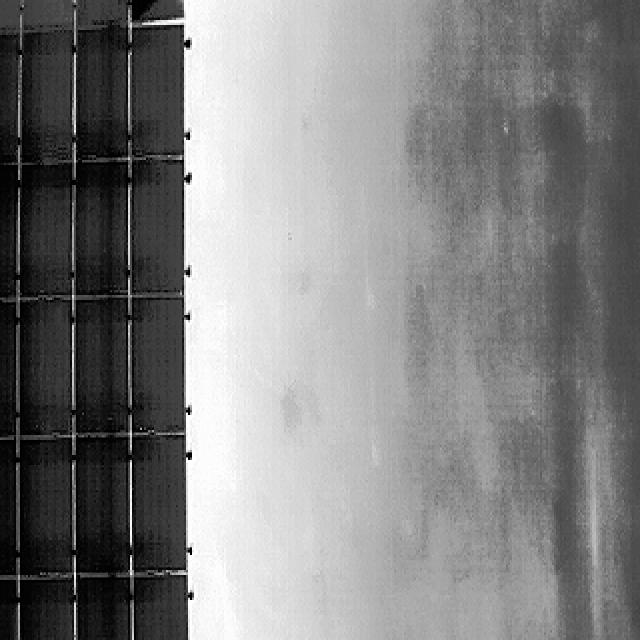PV-modules: (129, 303, 189, 443), (130, 431, 189, 573), (14, 304, 72, 445), (77, 303, 134, 444), (15, 443, 72, 583), (129, 165, 187, 302), (76, 166, 134, 302), (78, 433, 134, 573), (17, 28, 74, 163), (130, 22, 187, 155), (16, 164, 72, 298), (78, 23, 133, 157), (14, 577, 72, 640), (78, 580, 136, 640), (132, 580, 190, 640), (0, 300, 19, 440), (0, 439, 18, 579), (0, 33, 19, 163), (0, 162, 18, 298), (18, 0, 73, 30), (72, 0, 127, 27), (127, 0, 184, 25), (0, 577, 18, 640), (0, 0, 18, 30)
